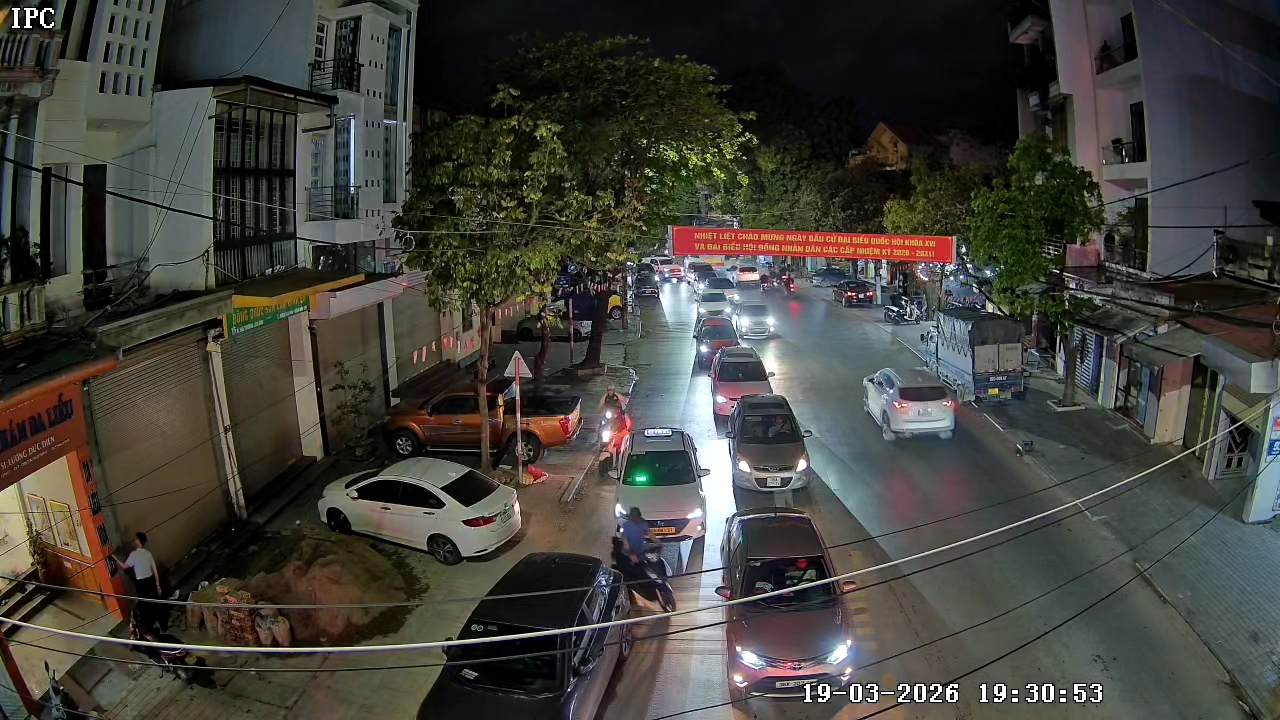car: (414, 551, 676, 719), (715, 507, 868, 717), (316, 454, 527, 561), (614, 423, 712, 548), (726, 392, 815, 493), (862, 365, 956, 443), (708, 343, 776, 423), (693, 318, 743, 373), (734, 310, 778, 342)
motorbike: (610, 504, 680, 616)
